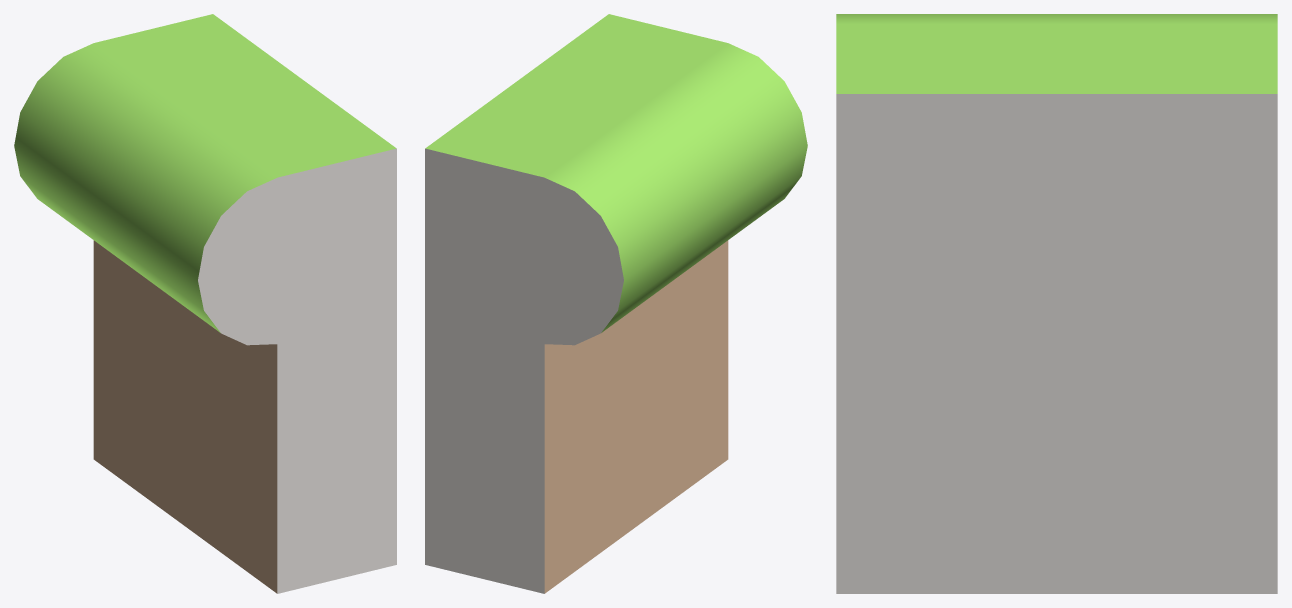
File: grassEdgeFront.glb
The picture shows the model from 3 angles, left to right: view 1: azimuth 30°, elevation 25°; view 2: azimuth 150°, elevation 25°; view 3: azimuth 270°, elevation 25°; orthographic projection. The views are drawn at different scales.
Parts seen in each view (by area): view 1: Dirt_Wall, Hidden; view 2: Dirt_Wall, Hidden; view 3: Hidden, Dirt_Wall.
Boxes of the visible parts, left/top/right/bottom form: Dirt_Wall: left=14, top=14, right=396, bottom=593; Hidden: left=198, top=148, right=396, bottom=593; Dirt_Wall: left=425, top=14, right=807, bottom=593; Hidden: left=425, top=148, right=623, bottom=593; Hidden: left=836, top=94, right=1277, bottom=593; Dirt_Wall: left=836, top=14, right=1277, bottom=93.
Bounding box in the file's own units: 0.625 × 1.25 × 1.
